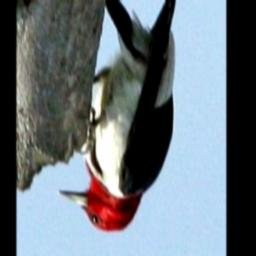Woodpecker: (54, 0, 179, 233)
